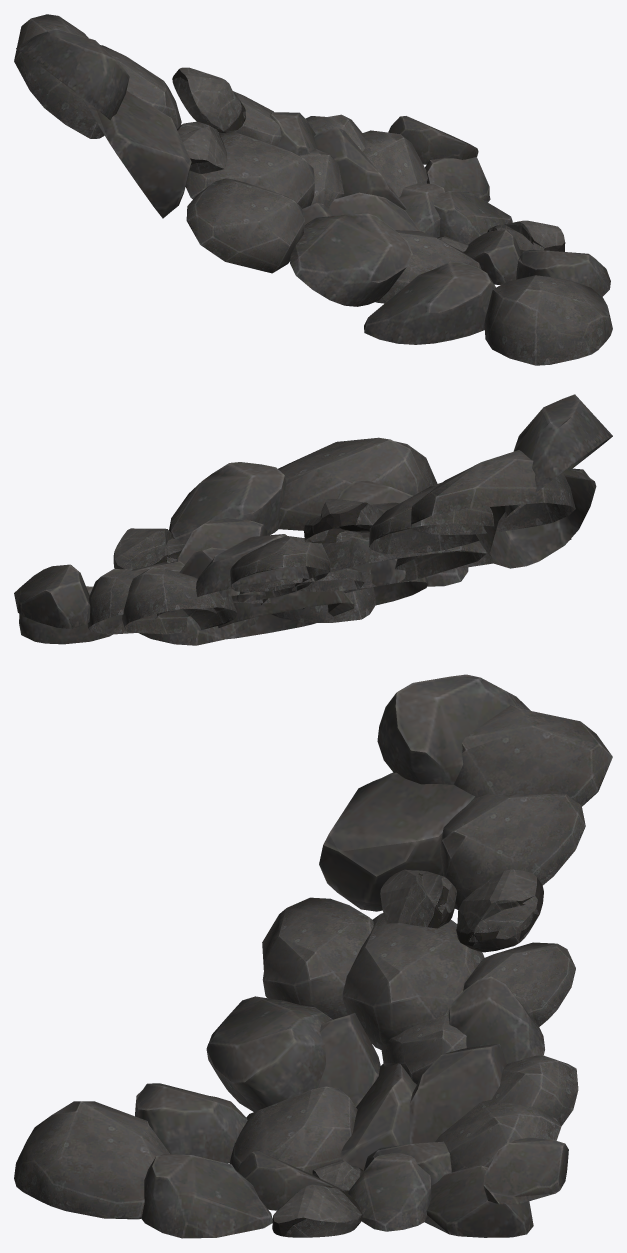
The model's file is mine_rocks001a.fbx.
3 renders of one model, top to bottom at view 1: azimuth 30°, elevation 25°; view 2: azimuth 150°, elevation 25°; view 3: azimuth 270°, elevation 25°, orthographic. The views are drawn at different scales.
Parts seen in each view (by area): view 1: mines_rocks_001a; view 2: mines_rocks_001a; view 3: mines_rocks_001a.
Part boxes in pixels (box(x1,y1,x2,y2)): mines_rocks_001a: box(14, 14, 612, 365); mines_rocks_001a: box(14, 394, 612, 645); mines_rocks_001a: box(14, 674, 612, 1238).
Size of the model in its own units: 276 by 165 by 263.
